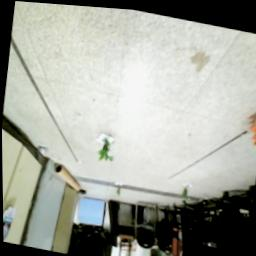herb: (95, 133, 118, 164), (180, 182, 191, 198), (115, 184, 123, 195)
